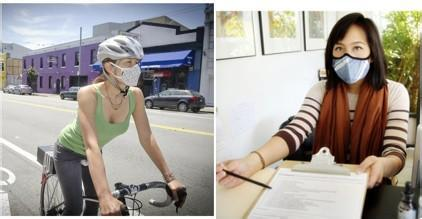OK: (332, 37, 371, 82), (118, 58, 142, 88)
